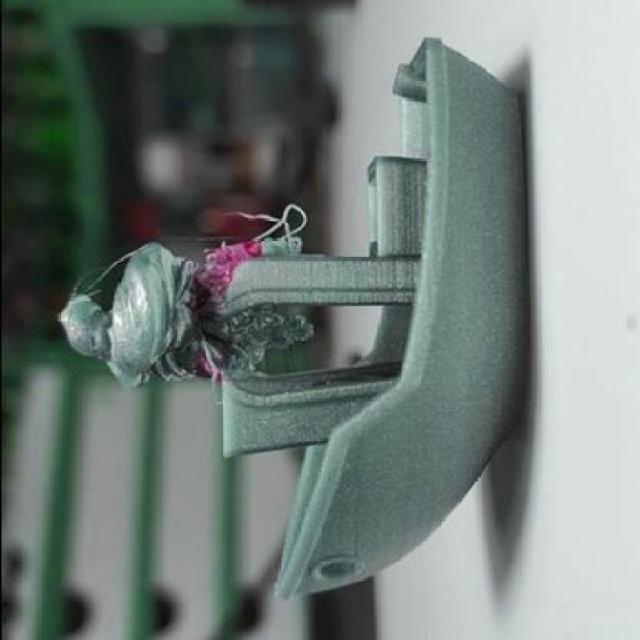spaghetti: (200, 206, 308, 299), (214, 307, 314, 381)
